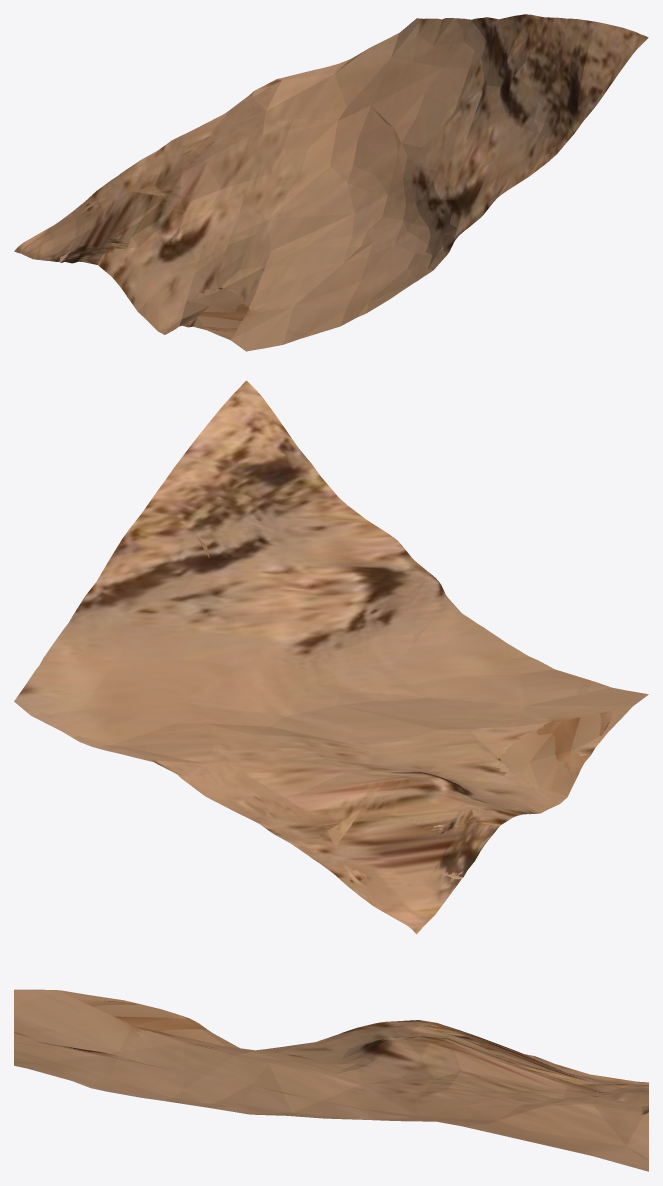
The picture shows the model from 3 angles, top to bottom: view 1: azimuth 30°, elevation 25°; view 2: azimuth 150°, elevation 25°; view 3: azimuth 270°, elevation 25°; orthographic projection. The views are drawn at different scales.
Bounding box in the file's own units: 1.04 × 0.7084 × 1.04.
Materials: 3 (3 with a texture image).
